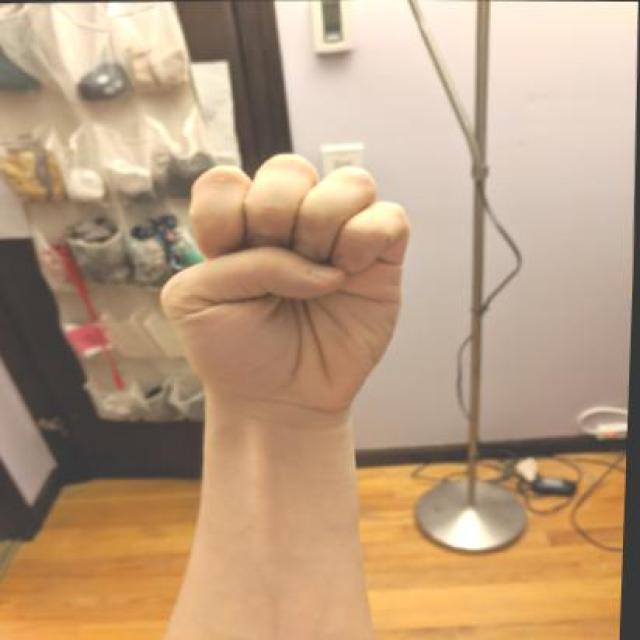E: (150, 141, 449, 448)
